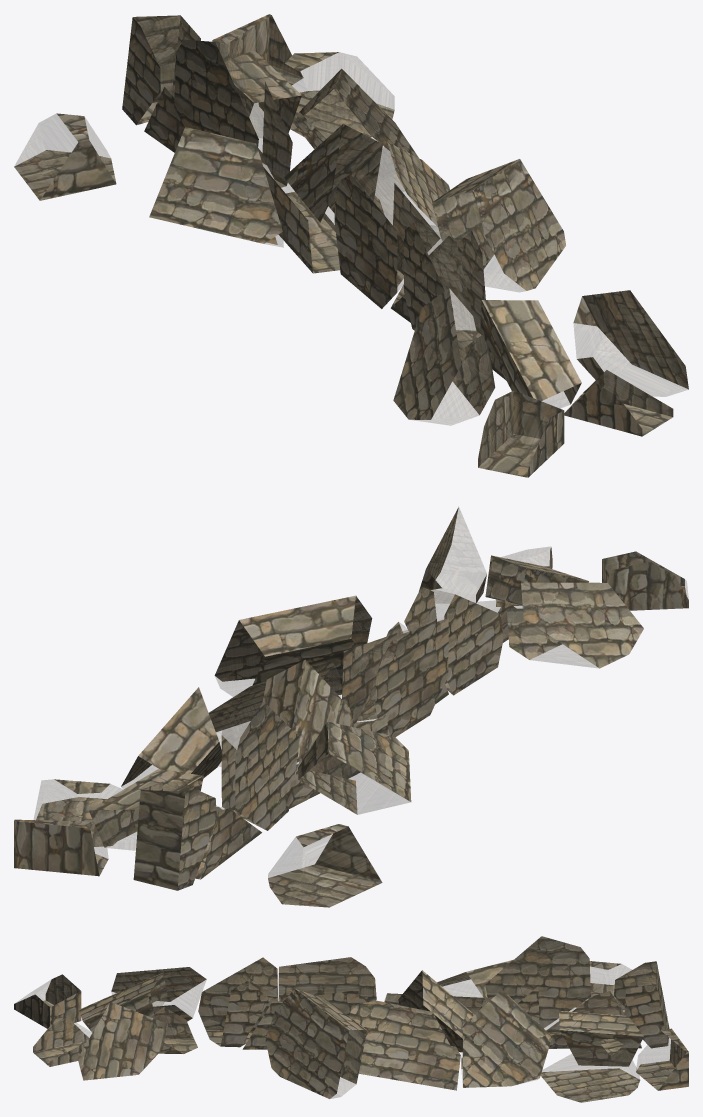
File: BreakWallLarge_000021.obj
3 views of the same model, one above another, from view 1: azimuth 30°, elevation 25°; view 2: azimuth 150°, elevation 25°; view 3: azimuth 270°, elevation 25° (orthographic). The views are drawn at different scales.
Visible parts, largest first — view 1: Cube.057_cell.018_Cube.057_cell.017, Cube.057_cell.017_Cube.057_cell.016, Cube.057_cell.014_Cube.057_cell.013, Cube.057_cell.021_Cube.057_cell.020, Cube.057_cell.013_Cube.057_cell.012, Cube.057_cell.007_Cube.057_cell.006, Cube.057_cell.011_Cube.057_cell.010, Cube.057_cell.010_Cube.057_cell.009, Cube.057_cell.001_Cube.057_cell.000, Cube.057_cell.015_Cube.057_cell.014, Cube.057_cell_Cube.057_cell.022, Cube.057_cell.020_Cube.057_cell.019 (+9 smaller); view 2: Cube.057_cell.021_Cube.057_cell.020, Cube.057_cell.018_Cube.057_cell.017, Cube.057_cell.013_Cube.057_cell.012, Cube.057_cell.014_Cube.057_cell.013, Cube.057_cell.017_Cube.057_cell.016, Cube.057_cell.003_Cube.057_cell.002, Cube.057_cell.001_Cube.057_cell.000, Cube.057_cell.010_Cube.057_cell.009, Cube.057_cell.020_Cube.057_cell.019, Cube.057_cell.019_Cube.057_cell.018, Cube.057_cell_Cube.057_cell.022, Cube.057_cell.015_Cube.057_cell.014 (+9 smaller); view 3: Cube.057_cell.018_Cube.057_cell.017, Cube.057_cell.004_Cube.057_cell.003, Cube.057_cell.020_Cube.057_cell.019, Cube.057_cell.014_Cube.057_cell.013, Cube.057_cell.007_Cube.057_cell.006, Cube.057_cell.010_Cube.057_cell.009, Cube.057_cell.012_Cube.057_cell.011, Cube.057_cell.013_Cube.057_cell.012, Cube.057_cell.016_Cube.057_cell.015, Cube.057_cell.003_Cube.057_cell.002, Cube.057_cell_Cube.057_cell.022, Cube.057_cell.019_Cube.057_cell.018 (+10 smaller).
Boxes of the visible parts, bbox=[...] form: Cube.057_cell.018_Cube.057_cell.017: bbox=[432, 159, 565, 291]; Cube.057_cell.017_Cube.057_cell.016: bbox=[149, 127, 283, 247]; Cube.057_cell.014_Cube.057_cell.013: bbox=[174, 39, 292, 187]; Cube.057_cell.021_Cube.057_cell.020: bbox=[393, 288, 495, 425]; Cube.057_cell.013_Cube.057_cell.012: bbox=[334, 175, 440, 308]; Cube.057_cell.007_Cube.057_cell.006: bbox=[573, 290, 688, 396]; Cube.057_cell.011_Cube.057_cell.010: bbox=[480, 300, 581, 408]; Cube.057_cell.010_Cube.057_cell.009: bbox=[404, 223, 485, 350]; Cube.057_cell.001_Cube.057_cell.000: bbox=[14, 113, 116, 200]; Cube.057_cell.015_Cube.057_cell.014: bbox=[478, 390, 564, 477]; Cube.057_cell_Cube.057_cell.022: bbox=[284, 124, 382, 231]; Cube.057_cell.020_Cube.057_cell.019: bbox=[294, 68, 418, 191]; Cube.057_cell.021_Cube.057_cell.020: bbox=[506, 582, 643, 668]; Cube.057_cell.018_Cube.057_cell.017: bbox=[214, 595, 372, 696]; Cube.057_cell.013_Cube.057_cell.012: bbox=[342, 618, 448, 736]; Cube.057_cell.014_Cube.057_cell.013: bbox=[221, 701, 298, 830]; Cube.057_cell.017_Cube.057_cell.016: bbox=[298, 721, 411, 814]; Cube.057_cell.003_Cube.057_cell.002: bbox=[133, 781, 216, 890]; Cube.057_cell.001_Cube.057_cell.000: bbox=[268, 824, 382, 907]; Cube.057_cell.010_Cube.057_cell.009: bbox=[404, 586, 503, 695]; Cube.057_cell.020_Cube.057_cell.019: bbox=[121, 687, 221, 788]; Cube.057_cell.019_Cube.057_cell.018: bbox=[14, 819, 108, 876]; Cube.057_cell_Cube.057_cell.022: bbox=[262, 659, 354, 762]; Cube.057_cell.015_Cube.057_cell.014: bbox=[602, 551, 688, 610]; Cube.057_cell.018_Cube.057_cell.017: bbox=[265, 989, 366, 1098]; Cube.057_cell.004_Cube.057_cell.003: bbox=[349, 1000, 460, 1090]; Cube.057_cell.020_Cube.057_cell.019: bbox=[461, 990, 552, 1087]; Cube.057_cell.014_Cube.057_cell.013: bbox=[485, 936, 590, 1031]; Cube.057_cell.007_Cube.057_cell.006: bbox=[77, 1002, 167, 1080]; Cube.057_cell.010_Cube.057_cell.009: bbox=[198, 957, 277, 1047]; Cube.057_cell.012_Cube.057_cell.011: bbox=[540, 1039, 640, 1102]; Cube.057_cell.013_Cube.057_cell.012: bbox=[277, 957, 376, 1015]; Cube.057_cell.016_Cube.057_cell.015: bbox=[559, 1011, 643, 1066]; Cube.057_cell.003_Cube.057_cell.002: bbox=[614, 961, 669, 1048]; Cube.057_cell_Cube.057_cell.022: bbox=[398, 970, 474, 1052]; Cube.057_cell.019_Cube.057_cell.018: bbox=[636, 1028, 688, 1090].
Size of the model in its own units: 29.89 by 11.1 by 70.33.
2 materials, 2 textured.
